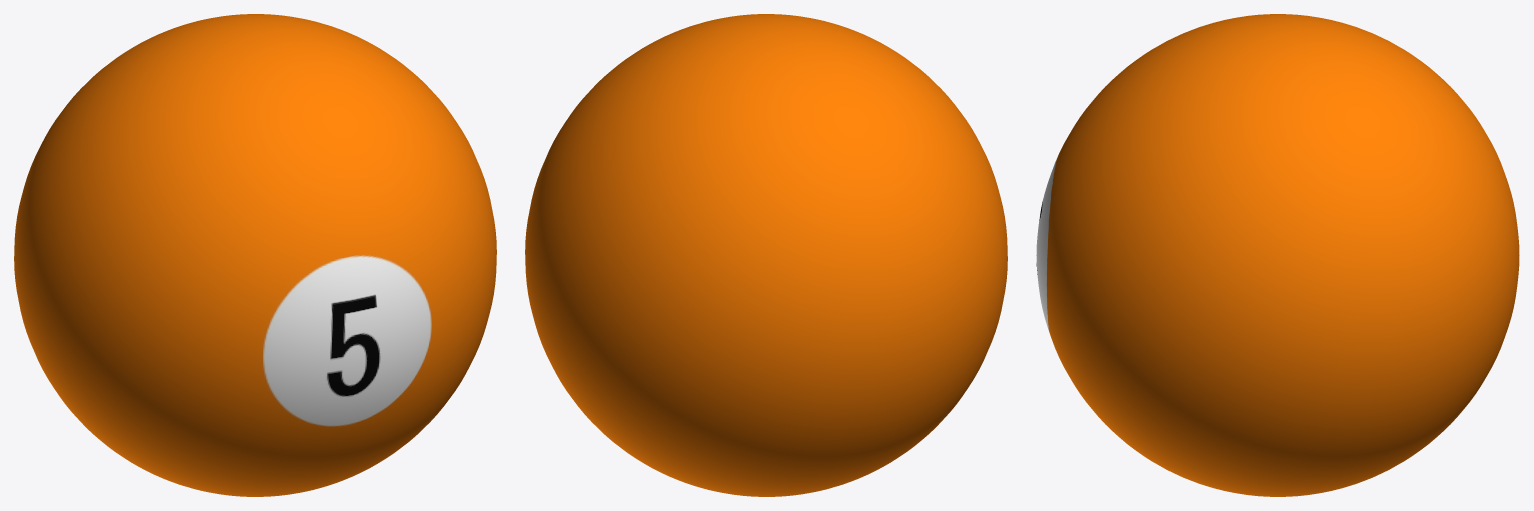
The model's file is Ball5.obj.
The picture shows the model from 3 angles, left to right: view 1: azimuth 30°, elevation 25°; view 2: azimuth 150°, elevation 25°; view 3: azimuth 270°, elevation 25°; orthographic projection.
Visible parts, largest first — view 1: Sphere; view 2: Sphere; view 3: Sphere.
Boxes of the visible parts, x1,y1,x2,y2 form: Sphere: [14, 14, 496, 496]; Sphere: [525, 14, 1007, 496]; Sphere: [1036, 14, 1519, 496].
Size of the model in its own units: 2 by 2 by 2.
Materials: 1 (1 with a texture image).
